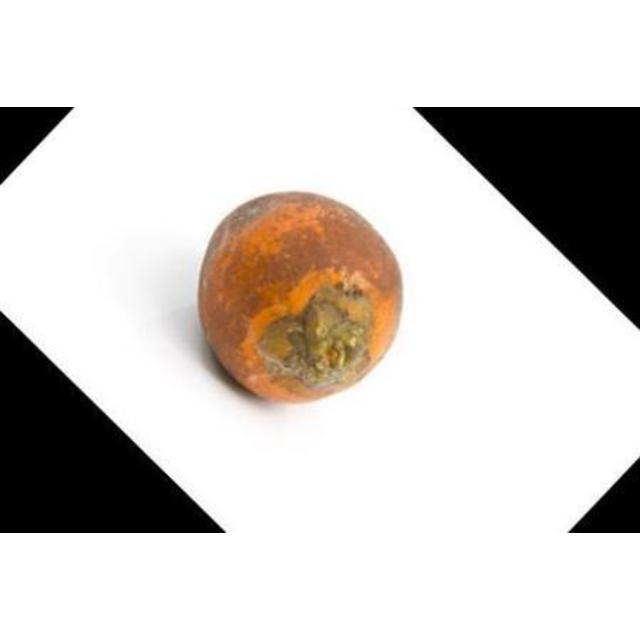good: (195, 191, 405, 406)
